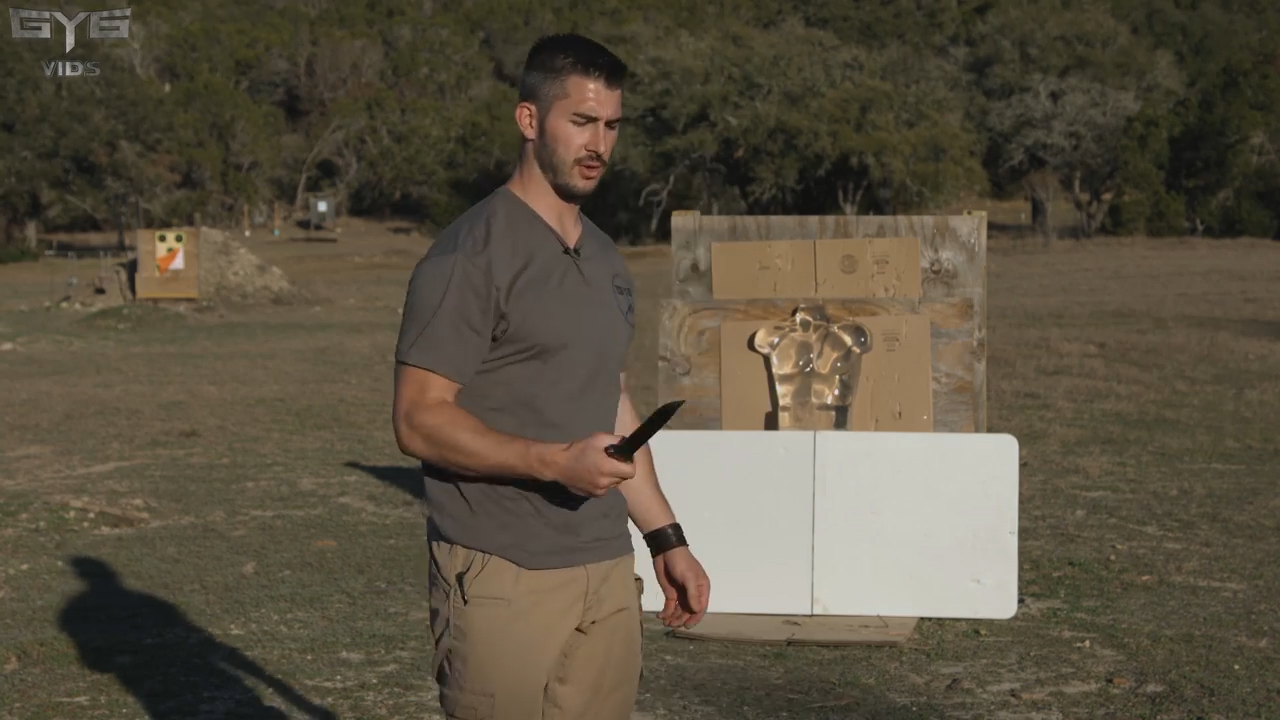knife: (560, 386, 699, 492)
